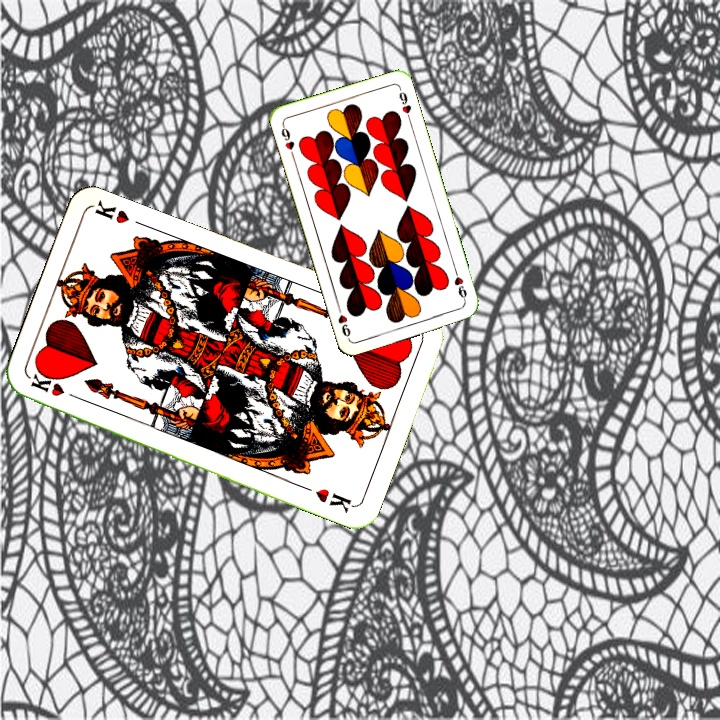H9: (277, 120, 297, 160), (450, 265, 470, 304)
HK: (26, 370, 84, 403)
